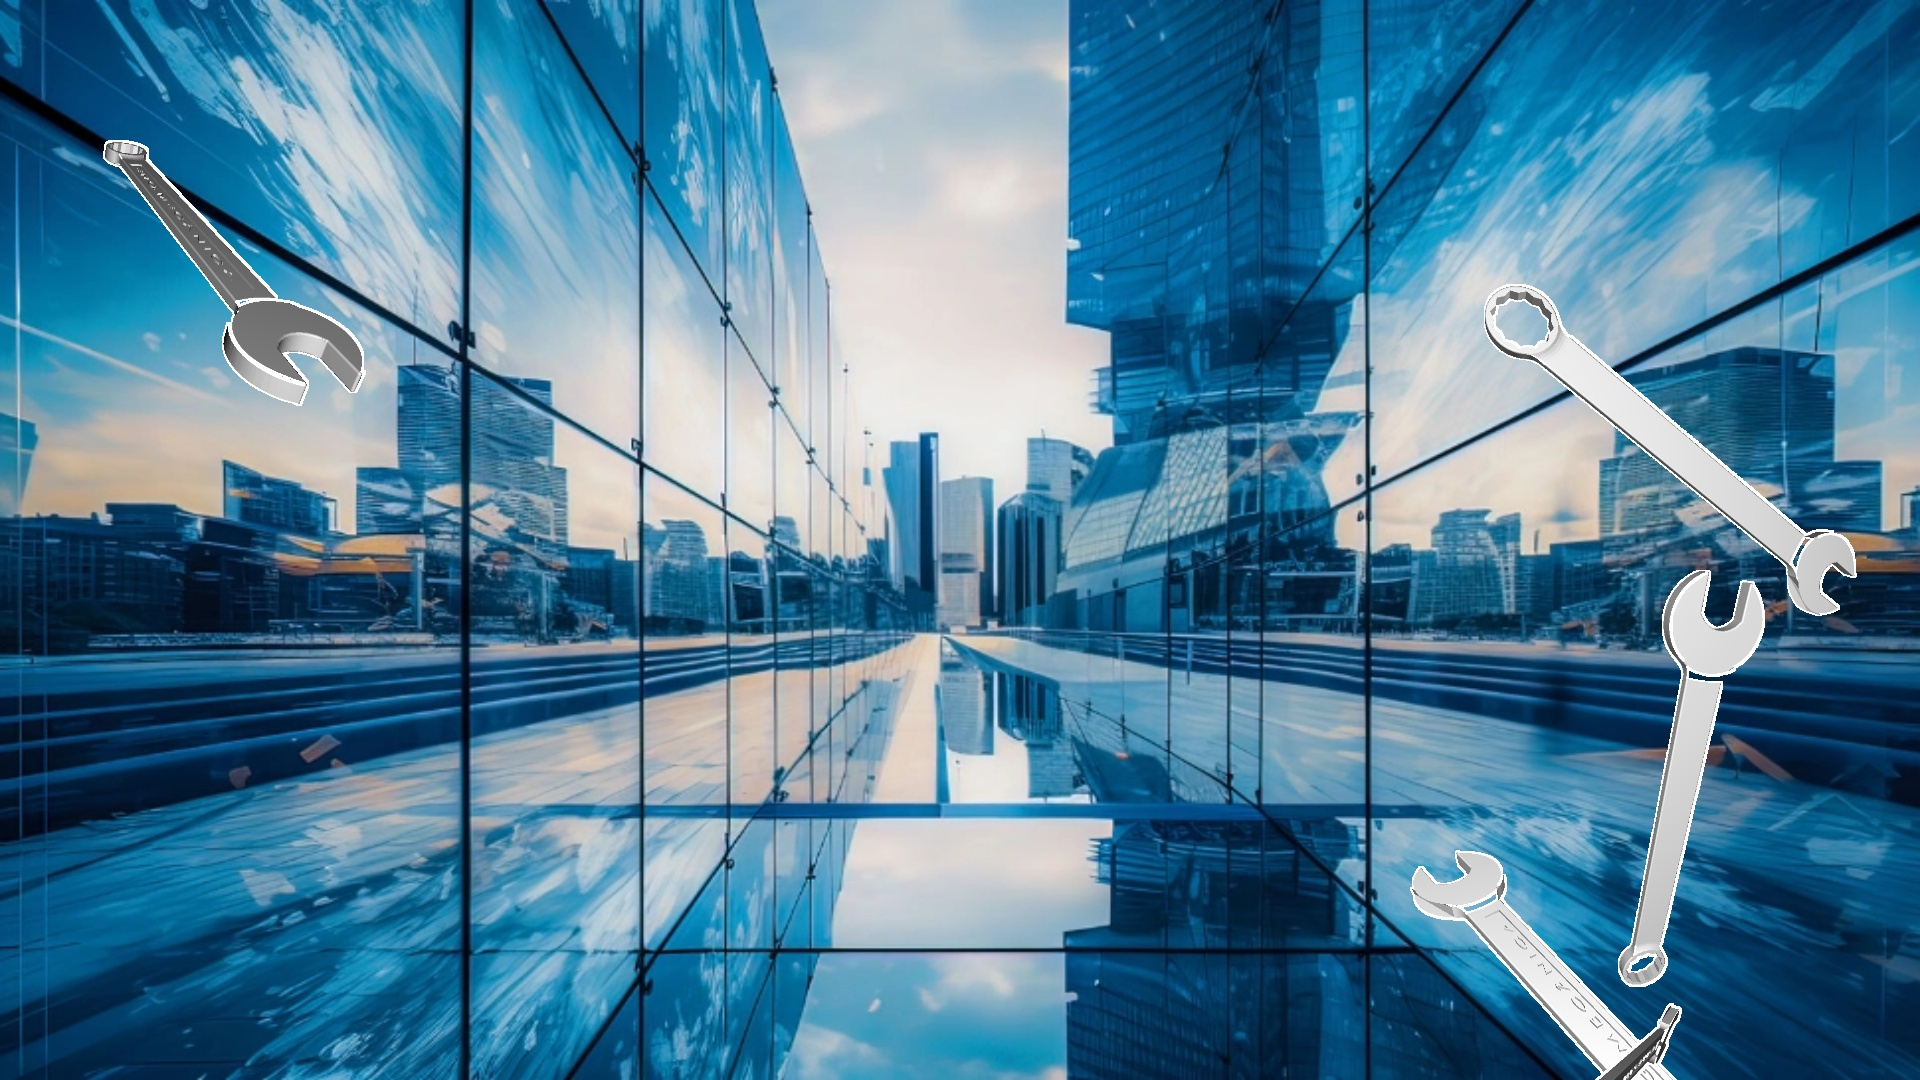Mixed Key: (1484, 284, 1855, 615), (103, 140, 365, 405), (1618, 570, 1764, 986), (1410, 851, 1676, 1079), (1596, 1004, 1681, 1079)
